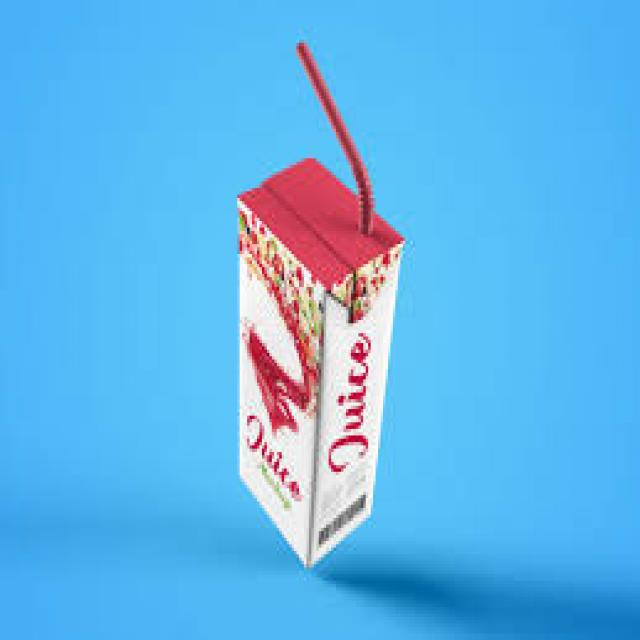non_white_jug: (218, 147, 403, 570)
